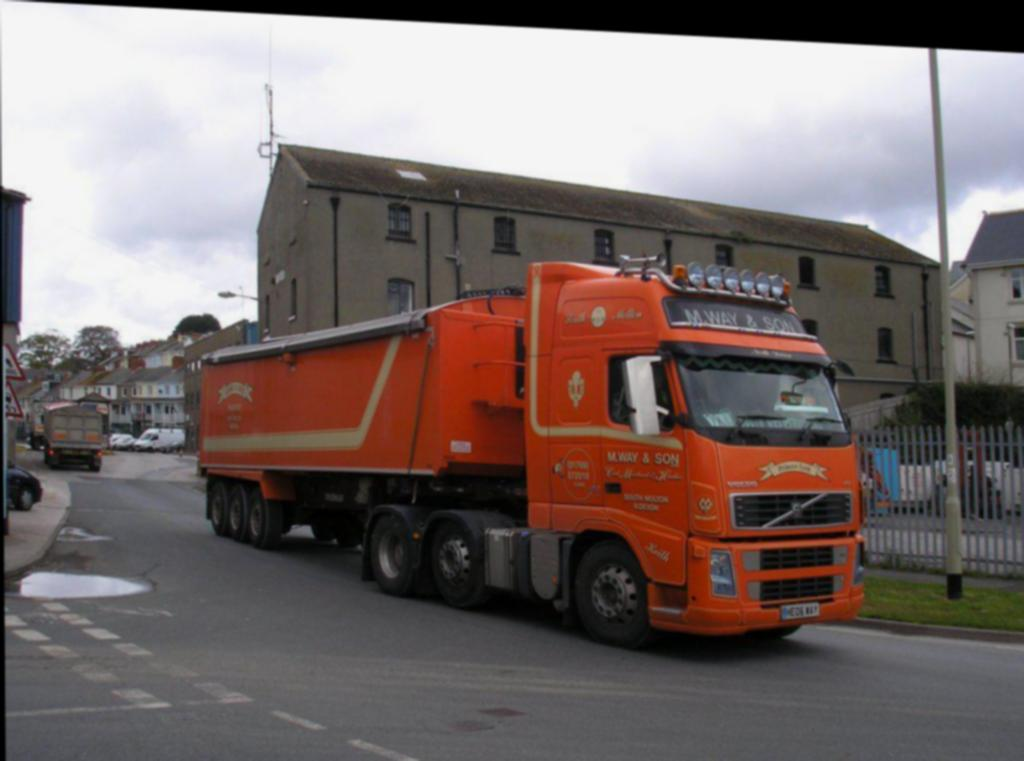License_Plate: (779, 598, 819, 623)
